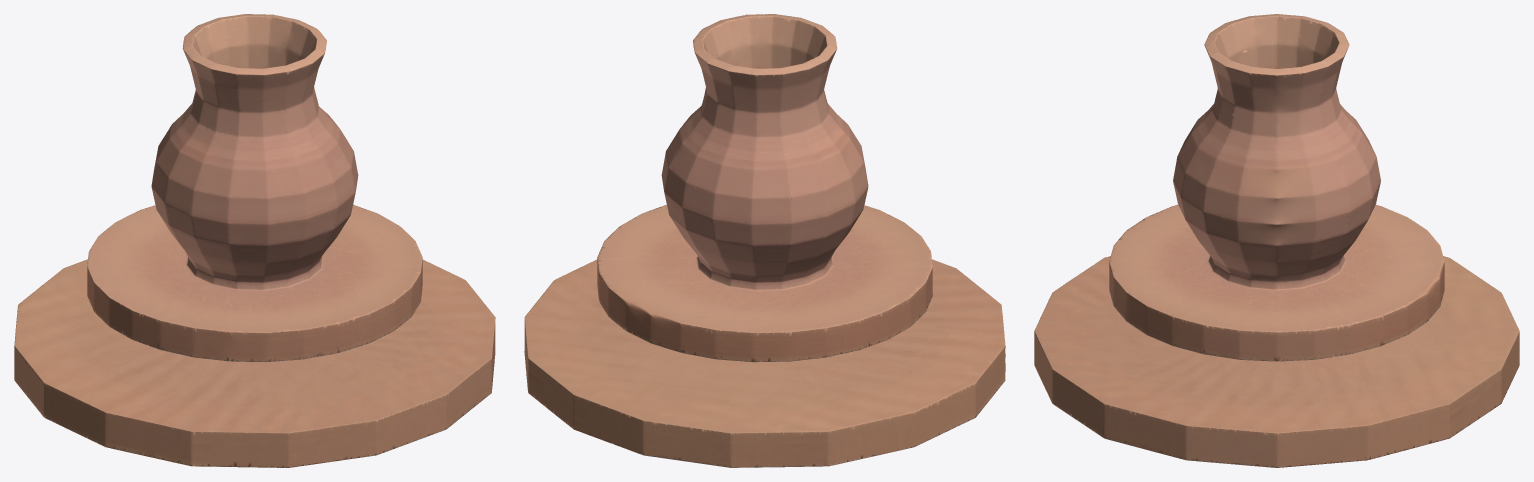
The model's file is accessories_set_6_item_25.glb.
3 renders of one model, left to right at view 1: azimuth 30°, elevation 25°; view 2: azimuth 150°, elevation 25°; view 3: azimuth 270°, elevation 25°, orthographic.
Size of the model in its own units: 1.9 by 1.4 by 1.9.
1 material, 1 textured.
